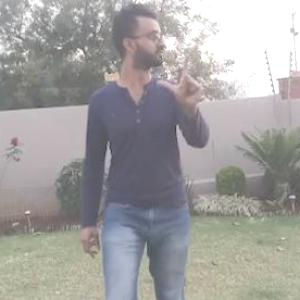land_hand: (150, 48, 208, 106)
